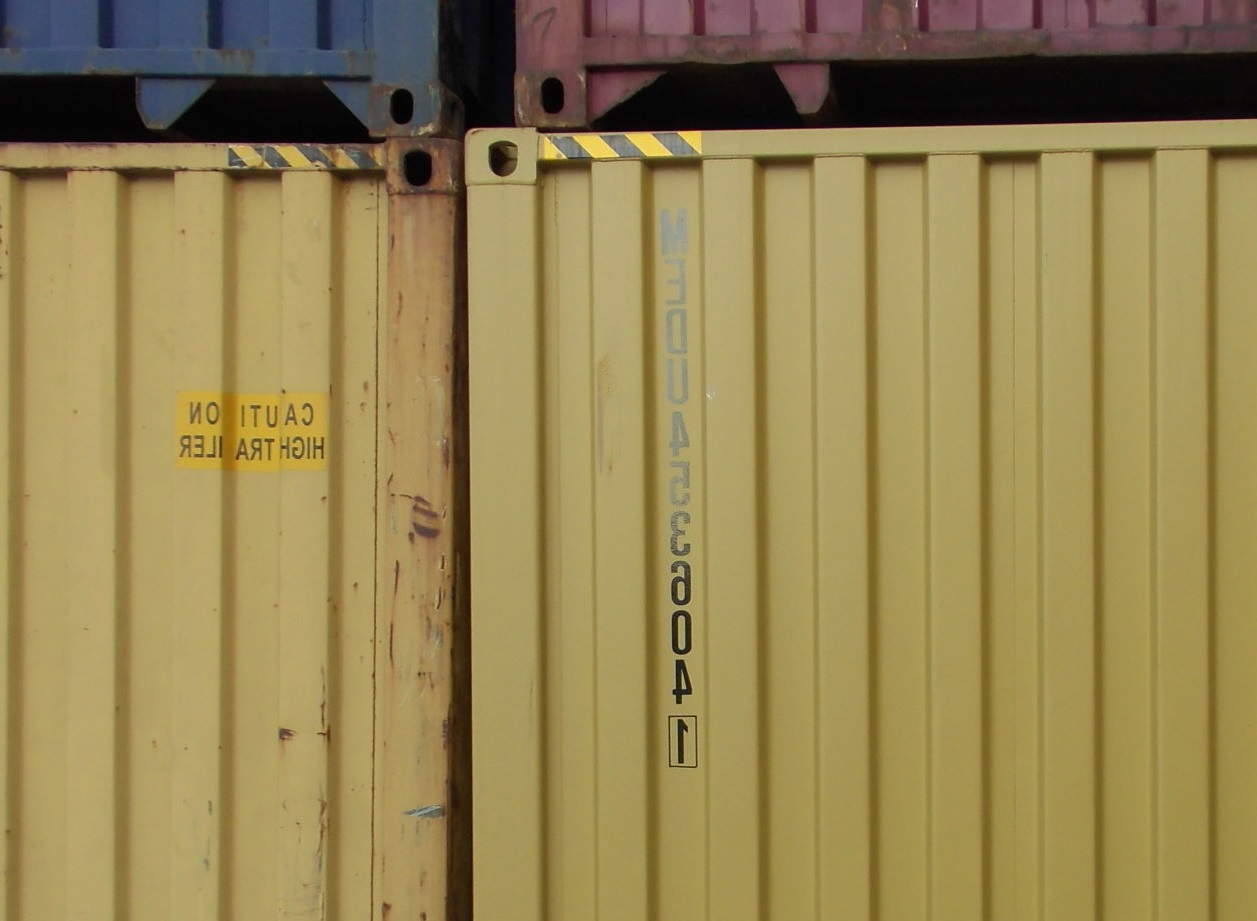container_no_door: (462, 128, 1257, 913), (10, 128, 457, 921)
